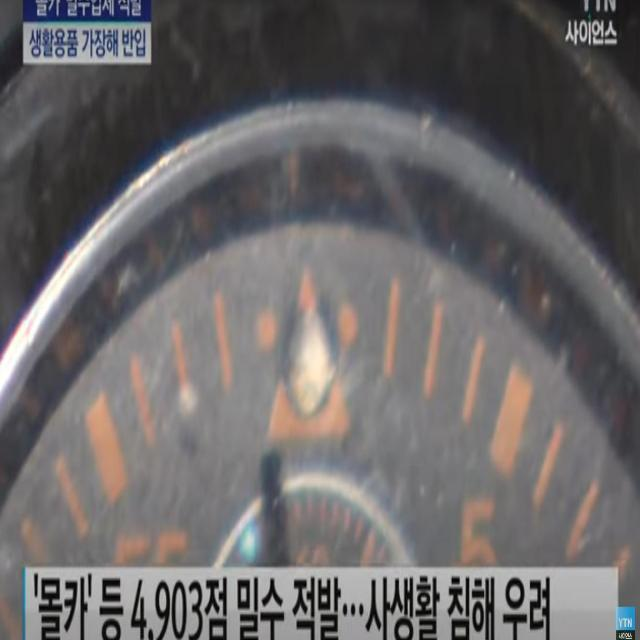hidden camera: (278, 297, 341, 422)
